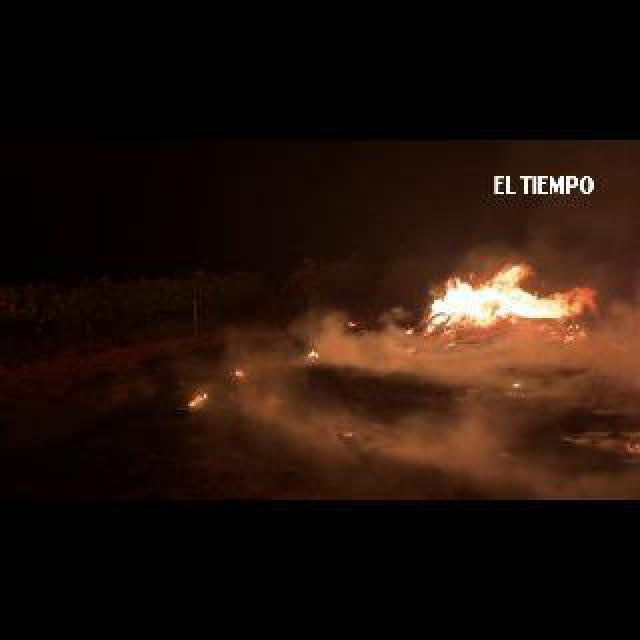fire: (416, 260, 592, 342), (186, 392, 206, 404), (232, 366, 244, 376), (308, 348, 318, 356), (348, 318, 356, 326), (404, 326, 412, 334)
smoke: (300, 380, 566, 488)
